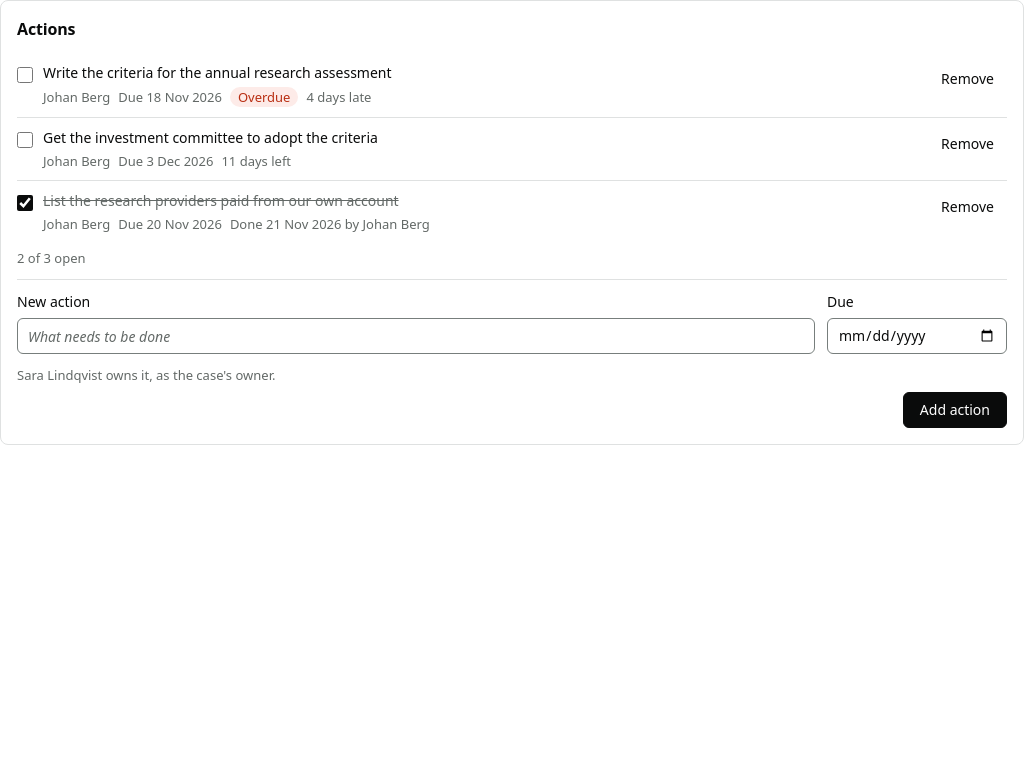
Test: removing an action › asks first, then removes it with the action’s own write
Expected: the text "Write the criteria for the annual research assessment" is shown, [43, 63, 392, 82]
Click the button "Remove" in the row of "11 days left".
click(968, 144)  # box [928, 128, 1007, 160]
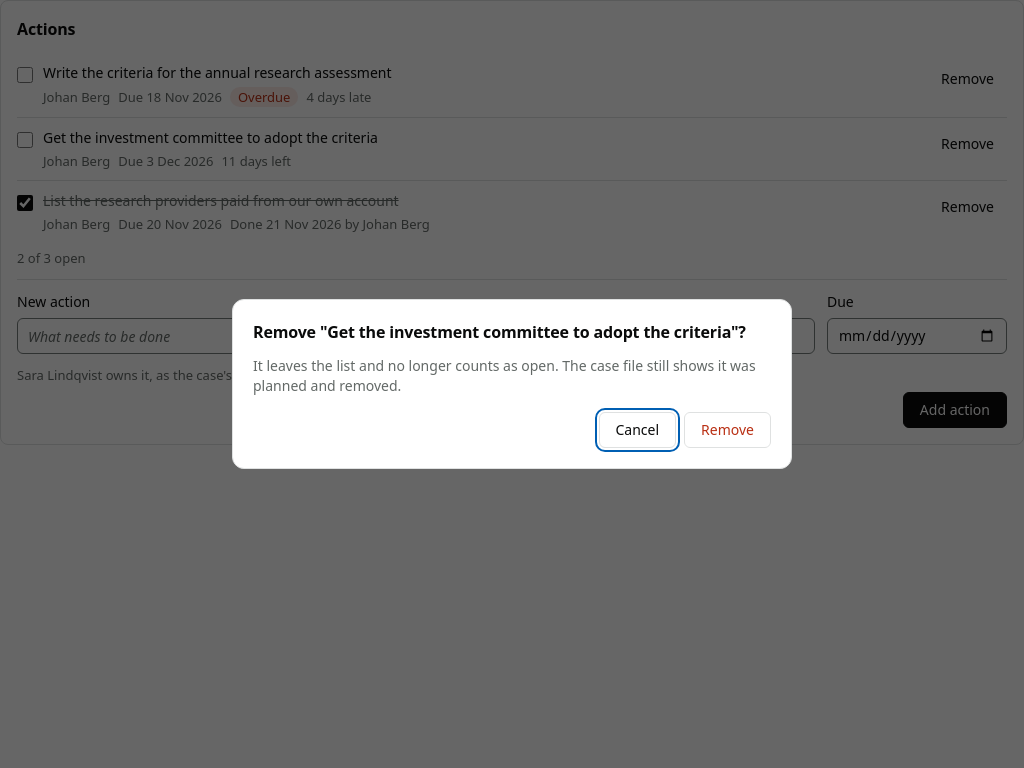
Click the button "Remove".
click(728, 430)  # box [684, 412, 771, 448]
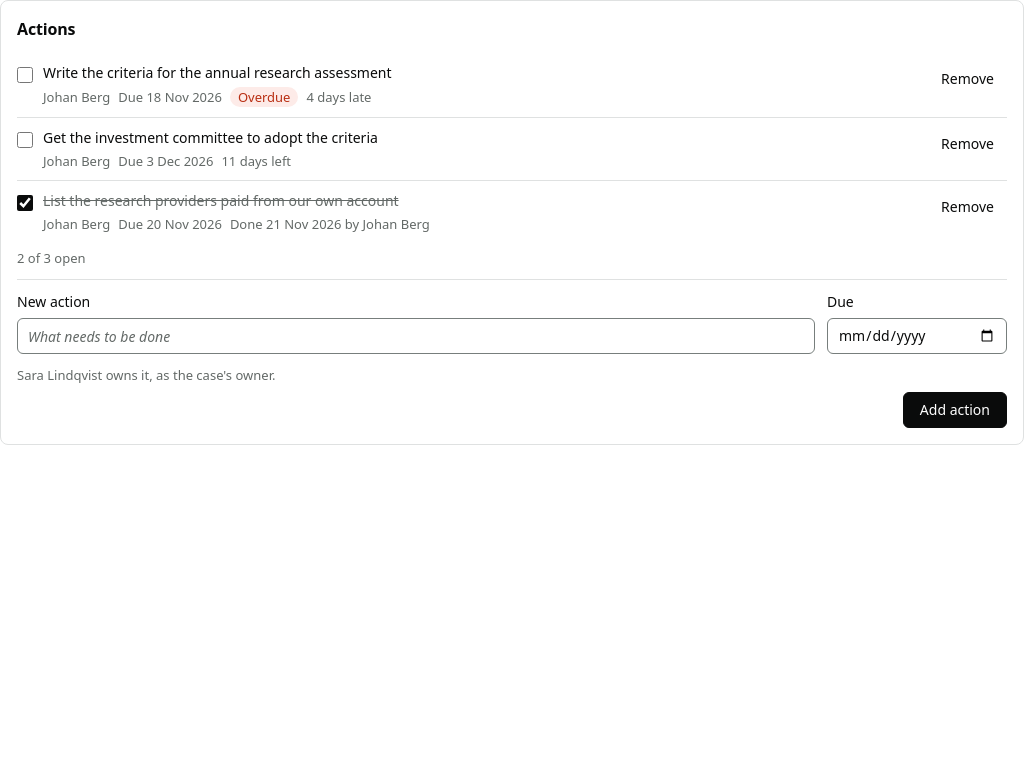
Result: the dialog is gone
